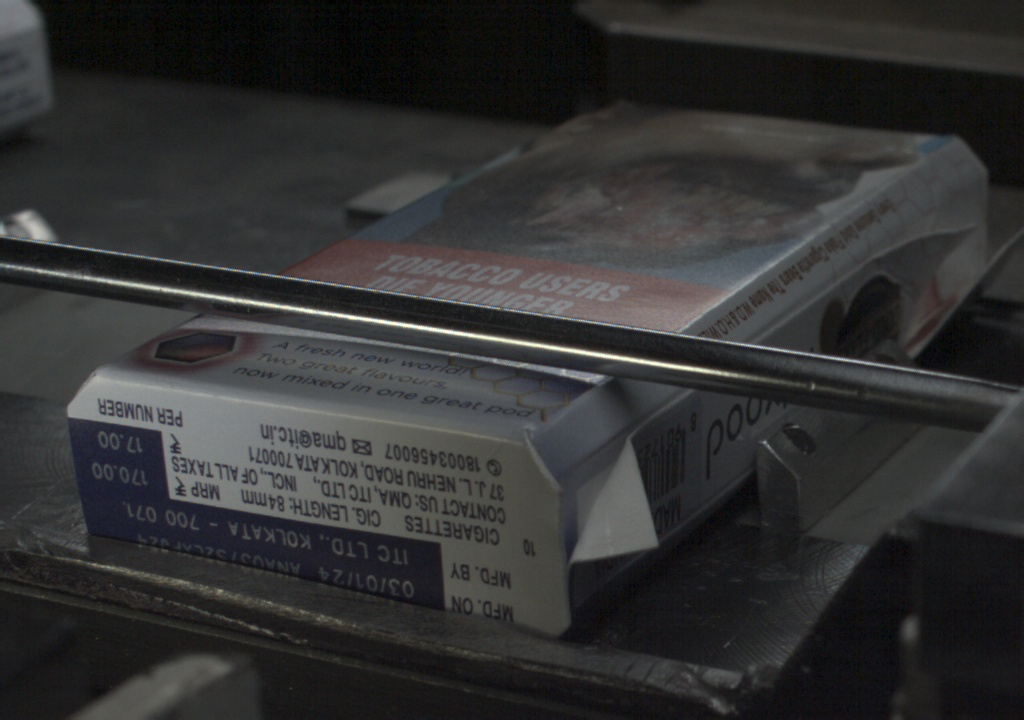g_bottom: (66, 370, 563, 638)
g_label: (79, 497, 443, 605)
g_lmiter: (759, 277, 846, 336)
ng_lmiter: (569, 432, 666, 563), (873, 220, 956, 265)
ng_miter: (958, 166, 1023, 275)
price: (66, 423, 165, 498)
